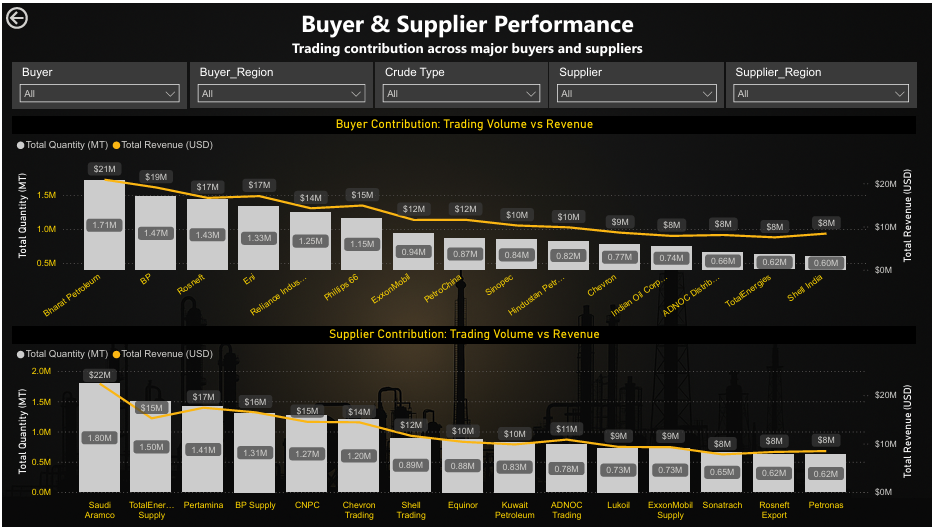

This screenshot's page, from the dashboard's own definition file:
{"tool":"powerbi","page":{"name":"Buyer & Supplier Performance","canvas":[1280,720],"ordinal":1},"visuals":[{"type":"slicer","fields":{"Values":["Supply Chain & Crude Sales Management Dashboard_SQL Output.Buyer"]},"box":[14.5,81,240,63.6],"z":0},{"type":"slicer","title":"Buyer Region","fields":{"Values":["Supply Chain & Crude Sales Management Dashboard_SQL Output.Buyer_Region"]},"box":[258.7,81,250.8,63.5],"z":1000},{"type":"textbox","box":[46.3,0,1188.4,81],"z":2000},{"type":"lineClusteredColumnComboChart","title":"Buyer Contribution: Trading Volume vs Revenue","fields":{"Category":["Supply Chain & Crude Sales Management Dashboard_SQL Output.Buyer"],"Y":["Supply Chain & Crude Sales Management Dashboard_SQL Output.Total Quantity (MT)"],"Y2":["Supply Chain & Crude Sales Management Dashboard_SQL Output.Total Revenue (USD)"]},"box":[14.5,156.1,1244.8,287.7],"z":3000},{"type":"lineClusteredColumnComboChart","title":"Supplier Contribution: Trading Volume vs Revenue","fields":{"Category":["Supply Chain & Crude Sales Management Dashboard_SQL Output.Supplier"],"Y":["Supply Chain & Crude Sales Management Dashboard_SQL Output.Total Quantity (MT)"],"Y2":["Supply Chain & Crude Sales Management Dashboard_SQL Output.Total Revenue (USD)"]},"box":[14.5,443.9,1244.8,276.1],"z":4000},{"type":"slicer","fields":{"Values":["Supply Chain & Crude Sales Management Dashboard_SQL Output.Supplier"]},"box":[754,81,239.7,63.5],"z":5000},{"type":"slicer","title":"Buyer Region","fields":{"Values":["Supply Chain & Crude Sales Management Dashboard_SQL Output.Supplier_Region"]},"box":[996.8,81,261.9,63.5],"z":6000},{"type":"actionButton","box":[0,0,100,40],"z":7000},{"type":"slicer","title":"Buyer Region","fields":{"Values":["Supply Chain & Crude Sales Management Dashboard_SQL Output.Crude Type"]},"box":[514.3,81,236.5,63.5],"z":8000}]}

Visuals, with their boxes in screenshot pixels (x1, y1, x2, y2), scaled from the page's 1280x720 canvas onto the 935x530 screenshot:
slicer - Supply Chain & Crude Sales Management Dashboard_SQL Output.Buyer: 11,60,186,106
"Buyer Region" slicer: 189,60,372,106
textbox: 34,0,902,60
"Buyer Contribution: Trading Volume vs Revenue" lineClusteredColumnComboChart: 11,115,920,327
"Supplier Contribution: Trading Volume vs Revenue" lineClusteredColumnComboChart: 11,327,920,529
slicer - Supply Chain & Crude Sales Management Dashboard_SQL Output.Supplier: 551,60,726,106
"Buyer Region" slicer: 728,60,919,106
actionButton: 0,0,73,29
"Buyer Region" slicer: 376,60,548,106
